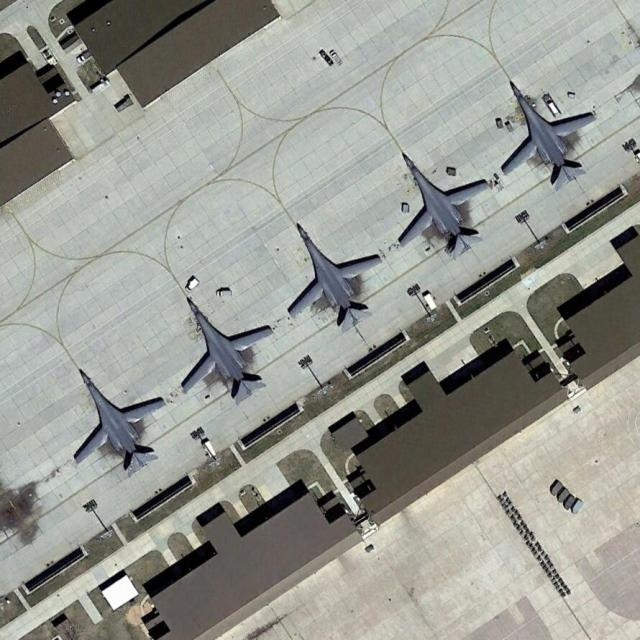fighter jet: (173, 293, 266, 397), (71, 374, 156, 474), (506, 81, 588, 182), (399, 152, 481, 248), (297, 226, 373, 322)
